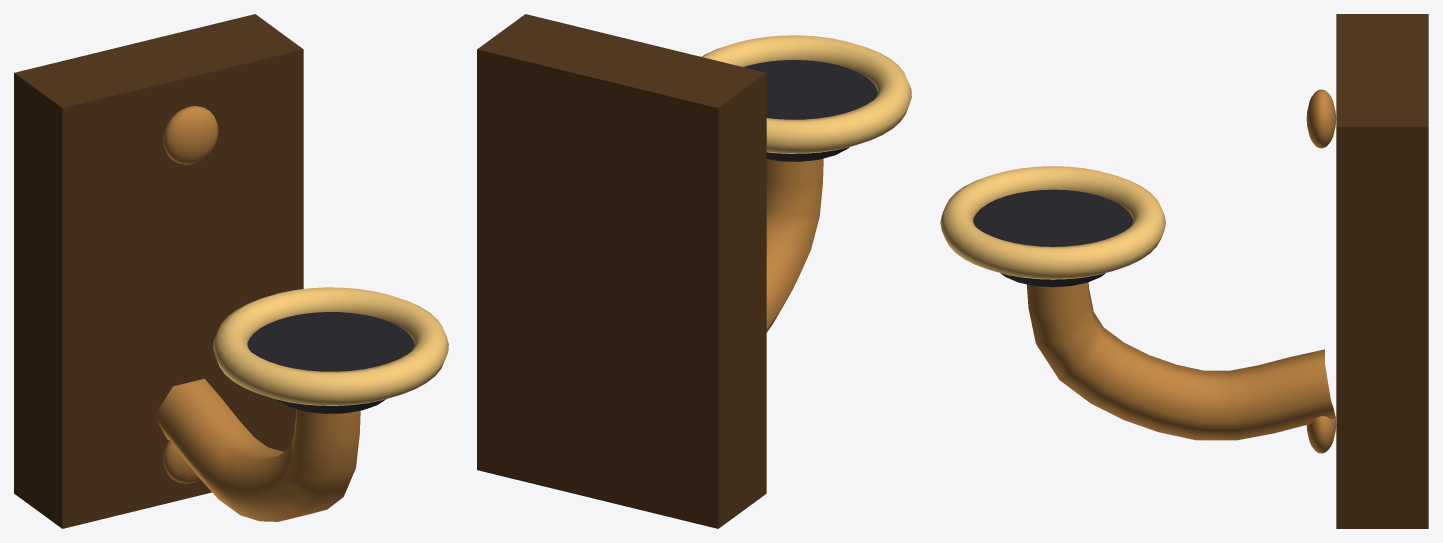
Rendered from mia-sconce.glb.
3 views of the same model, side by side, from view 1: azimuth 30°, elevation 25°; view 2: azimuth 150°, elevation 25°; view 3: azimuth 270°, elevation 25° (orthographic). The views are drawn at different scales.
Parts seen in each view (by area): view 1: Body_wood, Body_brass, Body_trim, Body_iron; view 2: Body_wood, Body_trim, Body_brass, Body_iron; view 3: Body_wood, Body_brass, Body_trim, Body_iron.
Boxes of the visible parts, box(x1,y1,x2,y2) form: Body_wood: box(14, 14, 303, 528); Body_brass: box(154, 106, 360, 521); Body_trim: box(213, 287, 448, 405); Body_iron: box(247, 312, 414, 413); Body_wood: box(477, 14, 766, 528); Body_trim: box(701, 35, 911, 153); Body_brass: box(766, 158, 823, 332); Body_iron: box(744, 60, 877, 161); Body_wood: box(1336, 14, 1428, 528); Body_brass: box(1026, 89, 1336, 453); Body_trim: box(940, 166, 1165, 279); Body_iron: box(973, 189, 1132, 287).
Size of the model in its own units: 0.144 by 0.24 by 0.264.
